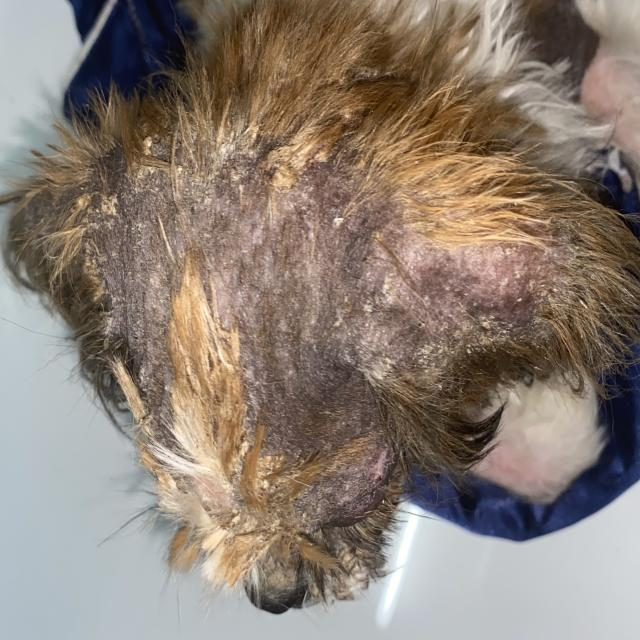demodicosis: (227, 166, 571, 361), (47, 157, 218, 371), (229, 374, 402, 519)
